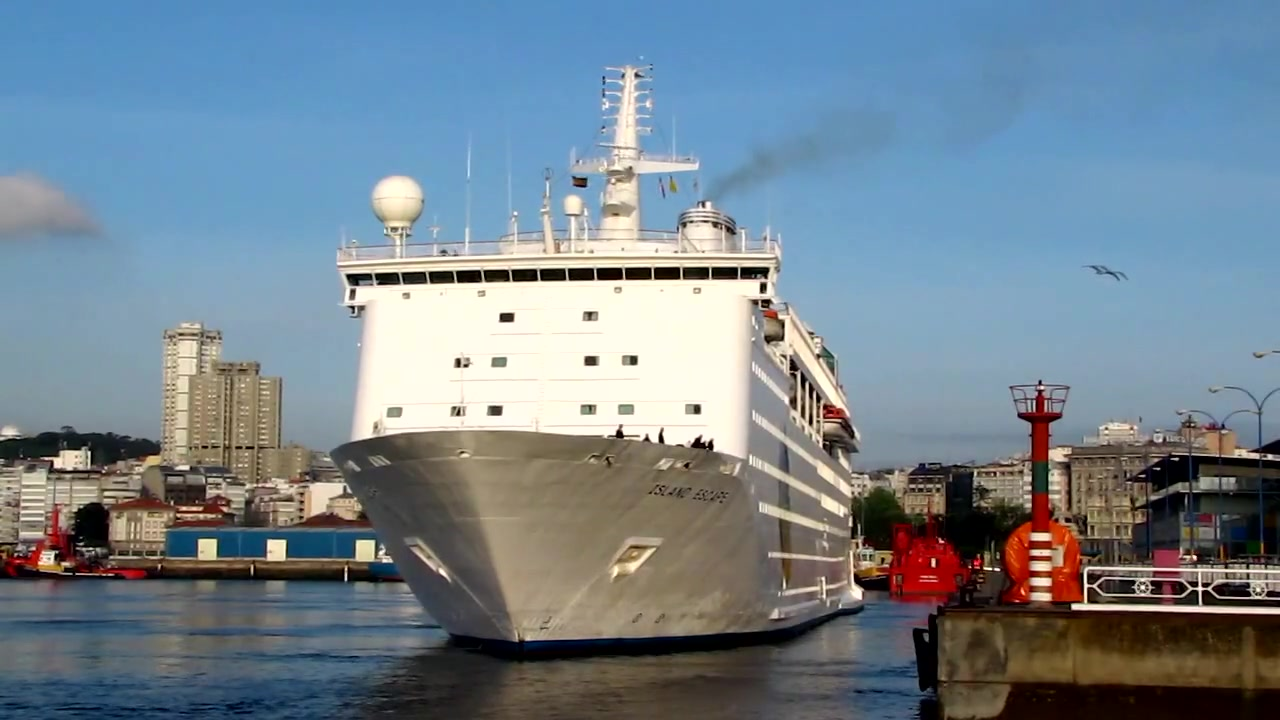boat: (332, 55, 870, 646)
